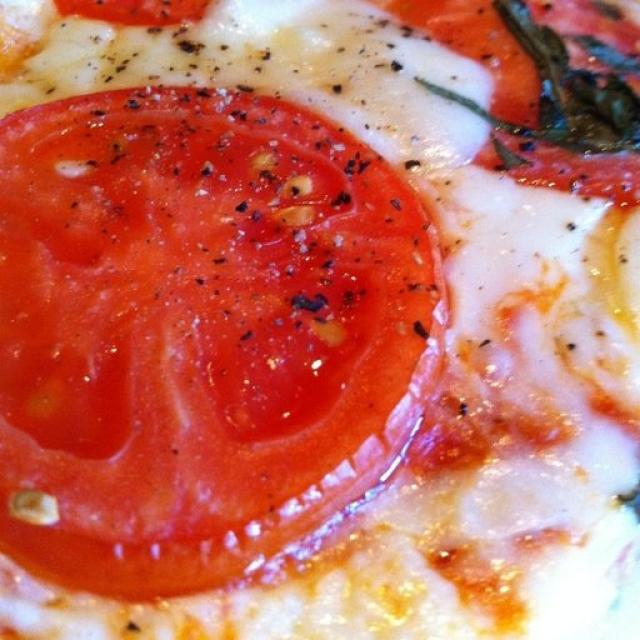Basil: (484, 0, 640, 162), (420, 68, 536, 138), (571, 27, 640, 72), (611, 472, 640, 528), (491, 137, 534, 174), (596, 0, 627, 22)
Pizza: (0, 0, 640, 640)
Tomato: (0, 72, 438, 598), (391, 0, 638, 212), (52, 0, 220, 35)
